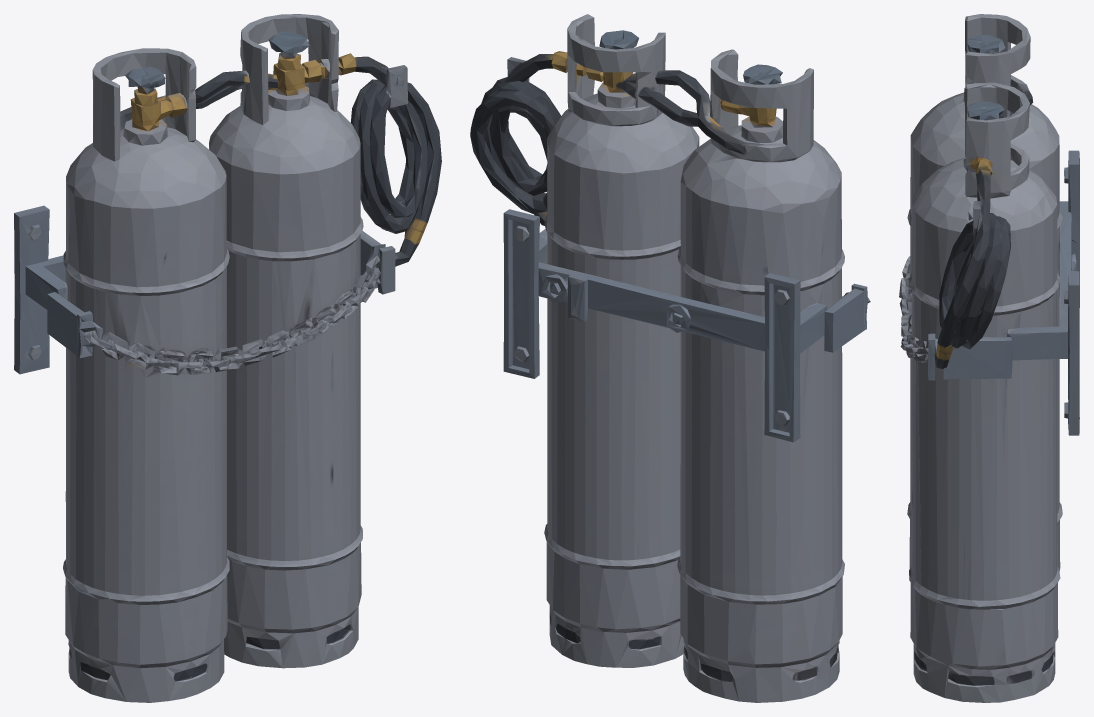
Rendered from lpg_cylinders.glb.
3 renders of one model, left to right at view 1: azimuth 30°, elevation 25°; view 2: azimuth 150°, elevation 25°; view 3: azimuth 270°, elevation 25°, orthographic. The views are drawn at different scales.
Visible parts, largest first — view 1: lpg_cylinders; view 2: lpg_cylinders; view 3: lpg_cylinders.
Part boxes in pixels (x1=…): lpg_cylinders: x1=14, y1=14, x2=441, y2=702; lpg_cylinders: x1=470, y1=14, x2=870, y2=702; lpg_cylinders: x1=899, y1=14, x2=1079, y2=702.
Size of the model in its own units: 0.8364 by 1.3 by 0.3706.
1 material, 1 textured.
